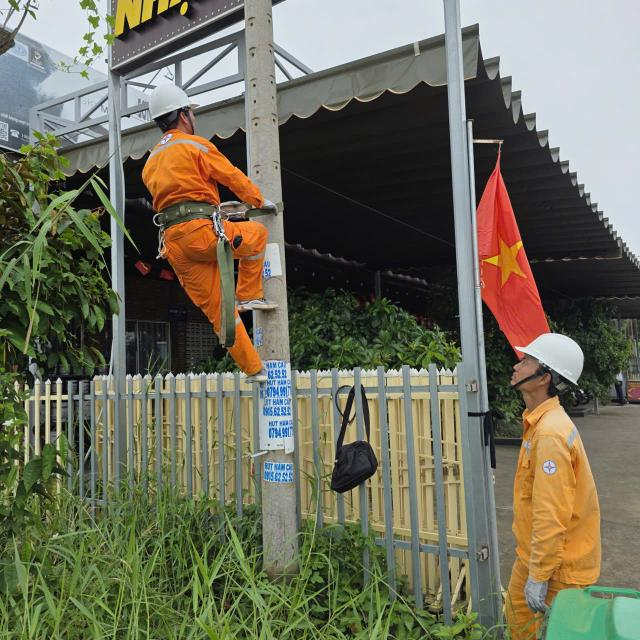gloves: (516, 562, 555, 609), (248, 188, 280, 223)
harness: (125, 191, 248, 233)
helmet: (513, 314, 592, 399), (140, 82, 207, 128)
shoes: (234, 289, 280, 315), (232, 366, 278, 387)
